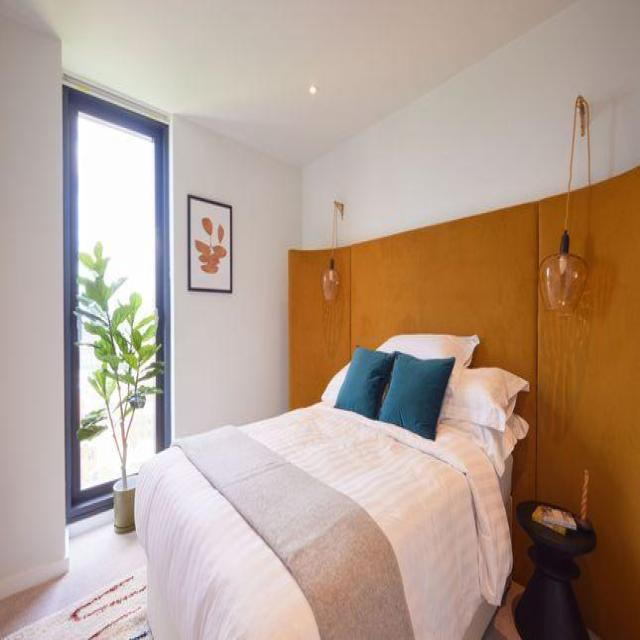Wall: (8, 1, 573, 164), (301, 0, 640, 248), (174, 116, 301, 434), (0, 15, 69, 597), (0, 523, 151, 639), (483, 581, 525, 640)
